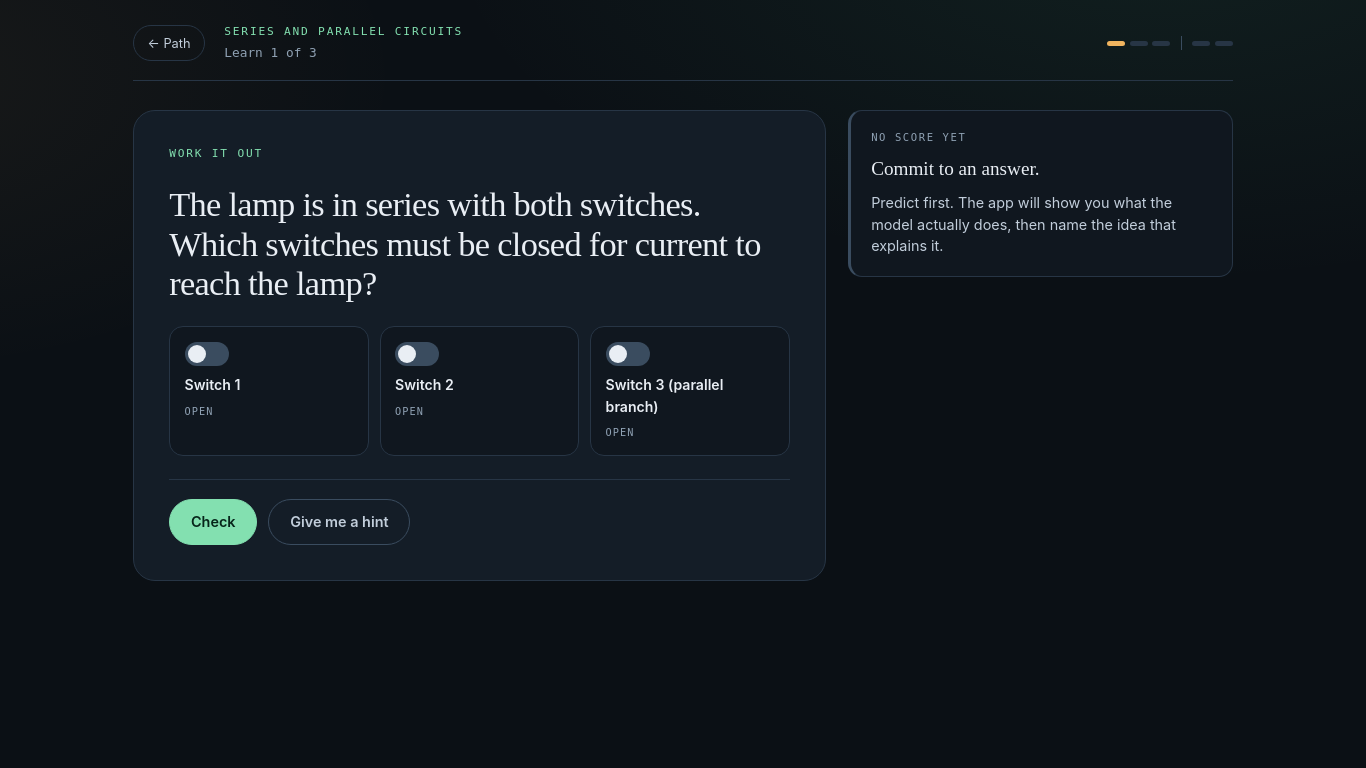
lesson screen › walks a toggle item through to the next item
Check: the heading "The lamp is in series with both switches. Which switches must be closed for current to reach the lamp?" is shown, box [169, 185, 761, 302]
Click the button with aria-label "Switch 1: open": (269, 391) [169, 326, 368, 456]
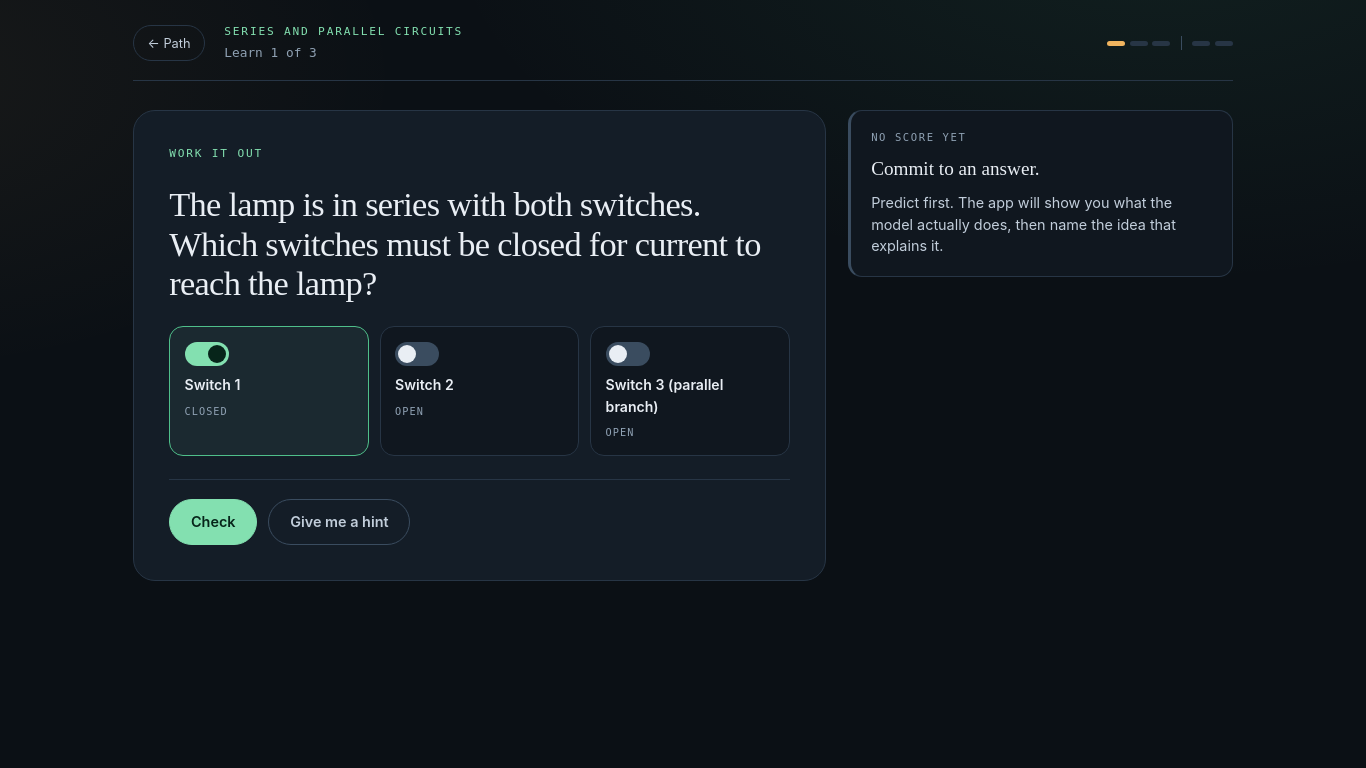
Click the button with aria-label "Switch 2: open": (479, 391) [380, 326, 579, 456]
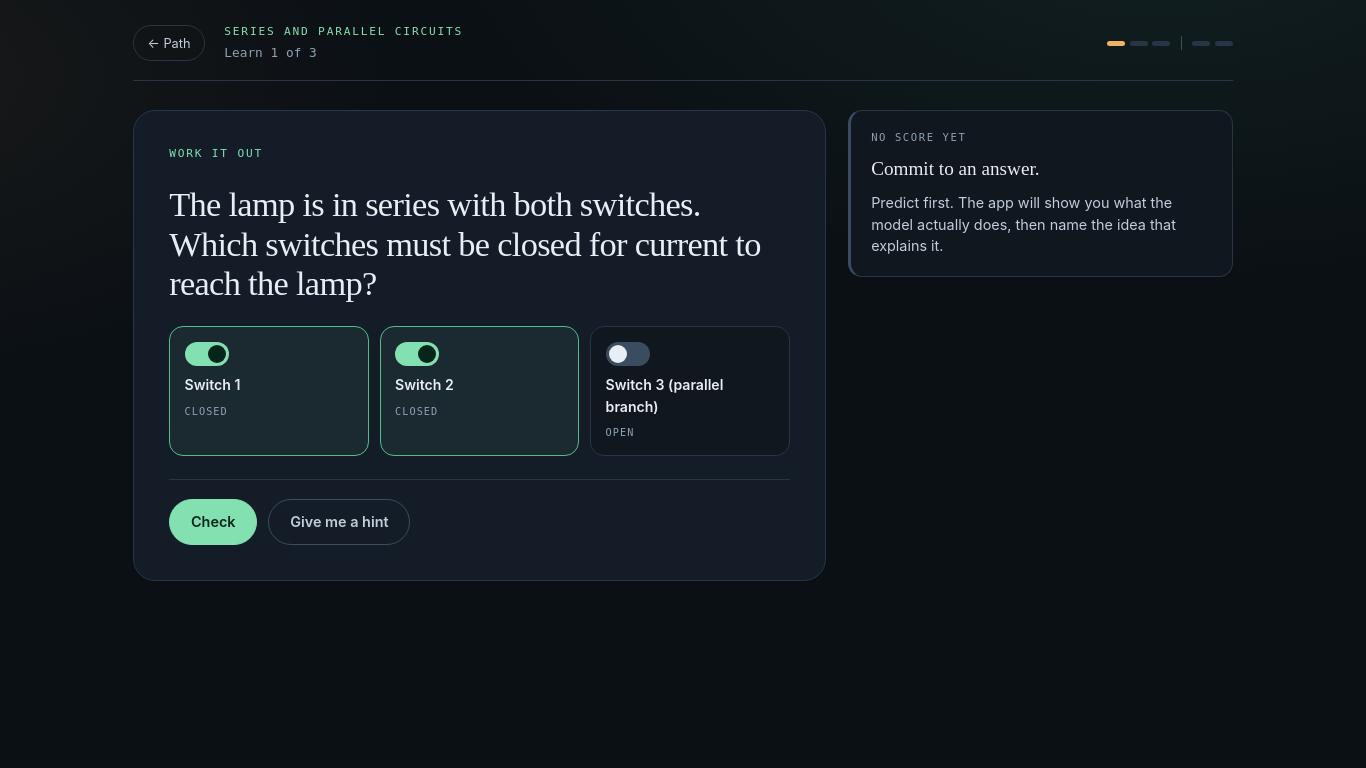
Click the button "Check": (213, 522) [169, 499, 257, 545]
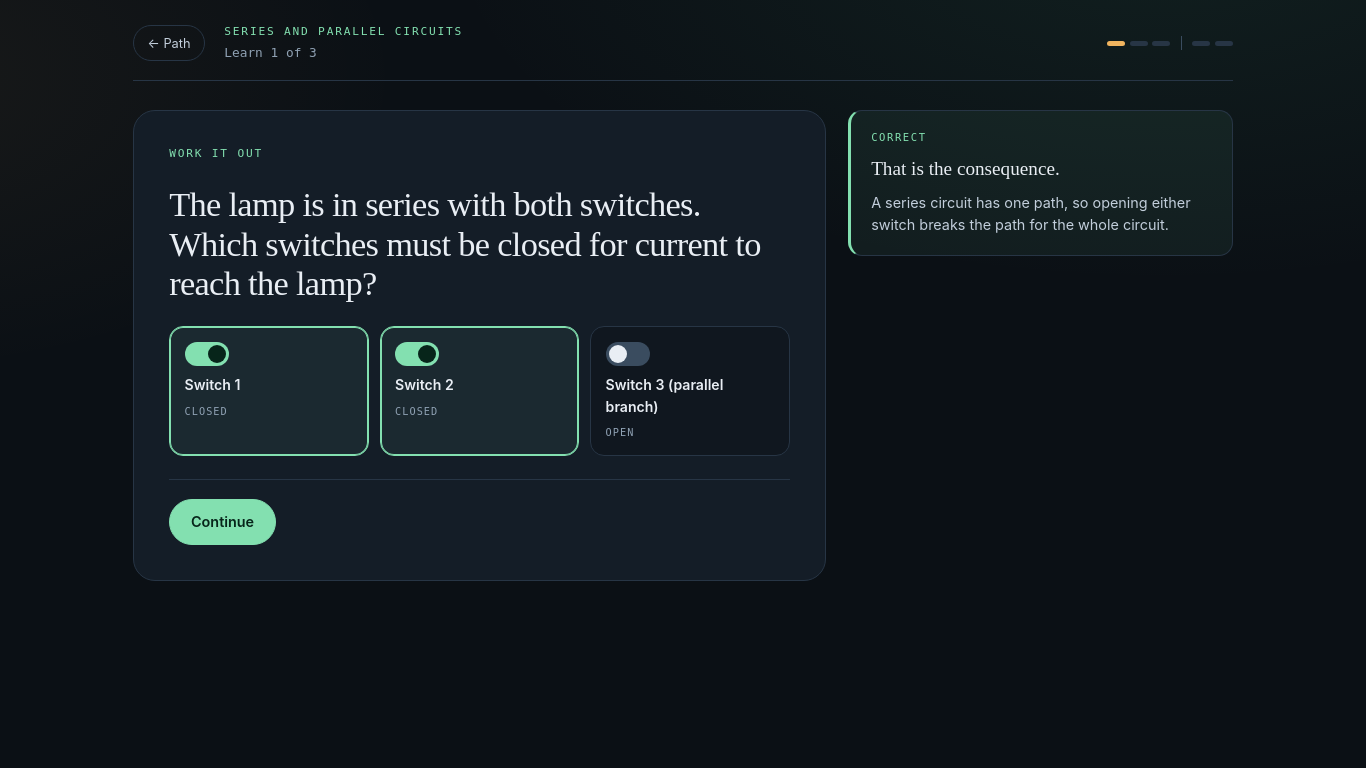
Check: the text "Correct" is shown, box [871, 131, 927, 143]
Check: the text "A series circuit has one path, so opening either switch breaks the path for the whole circuit." is shown, box [871, 194, 1191, 233]
Click the button "Continue": (223, 522) [169, 499, 276, 545]
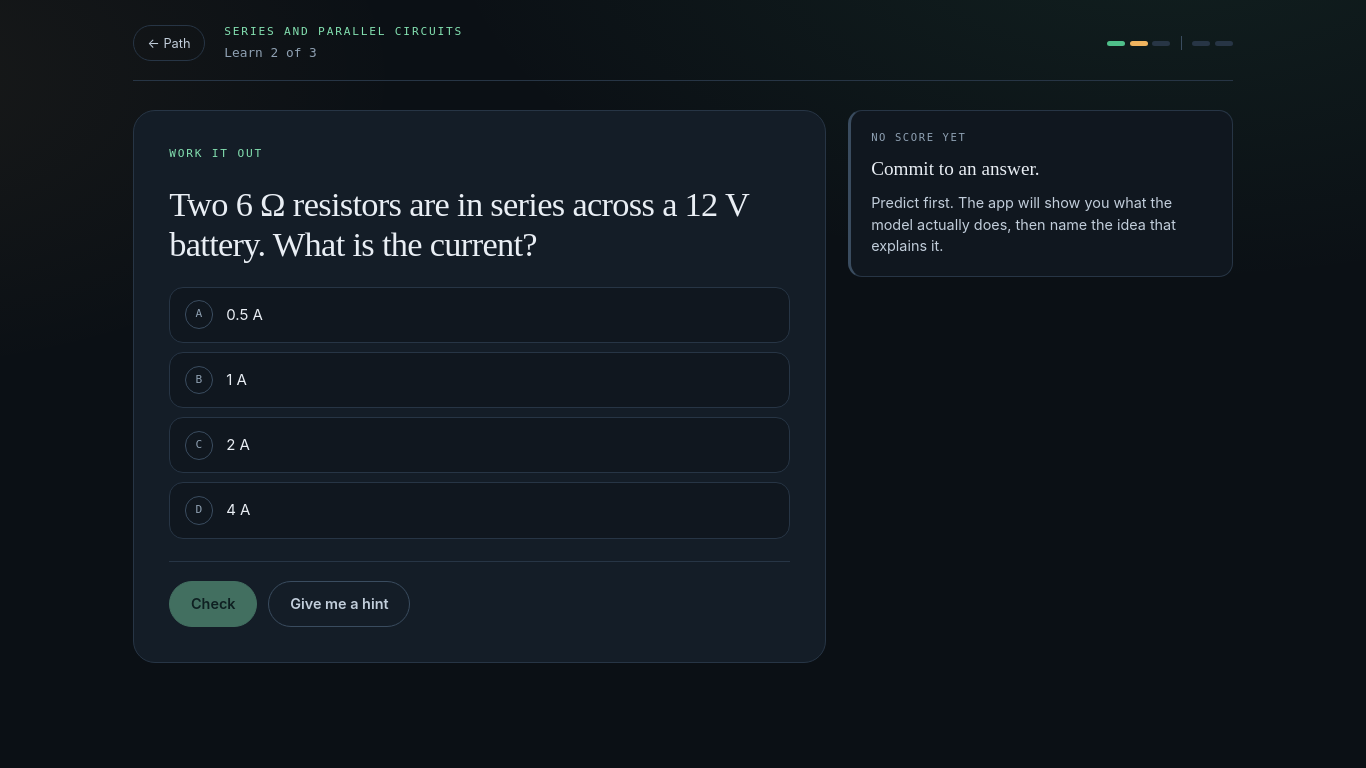
Check: the heading "Two 6 Ω resistors are in series across a 12 V battery. What is the current?" is shown, box [169, 185, 790, 264]
